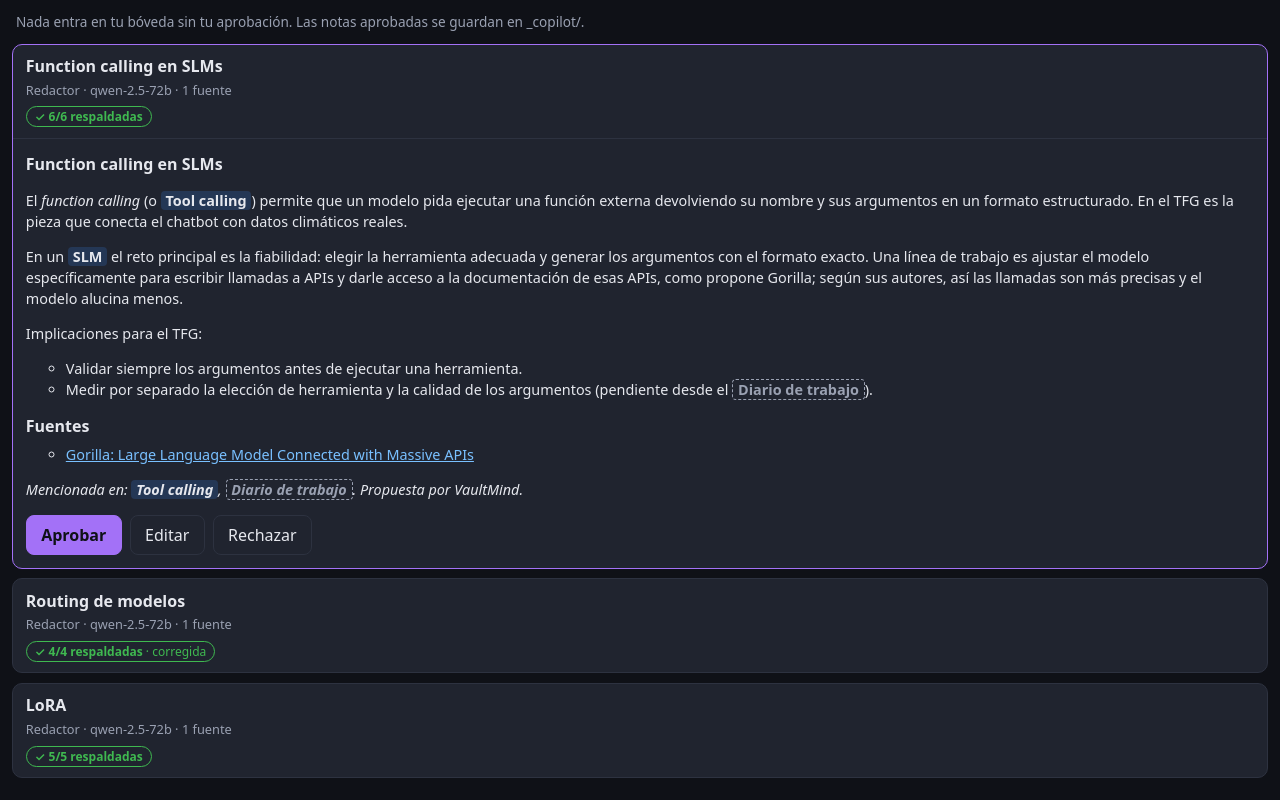
Test case: ReviewPanel › permite cerrar la nota abierta y abrir otra
Step 1. Click the button "Function calling en SLMs" → [124, 66], box [13,45,1267,138]
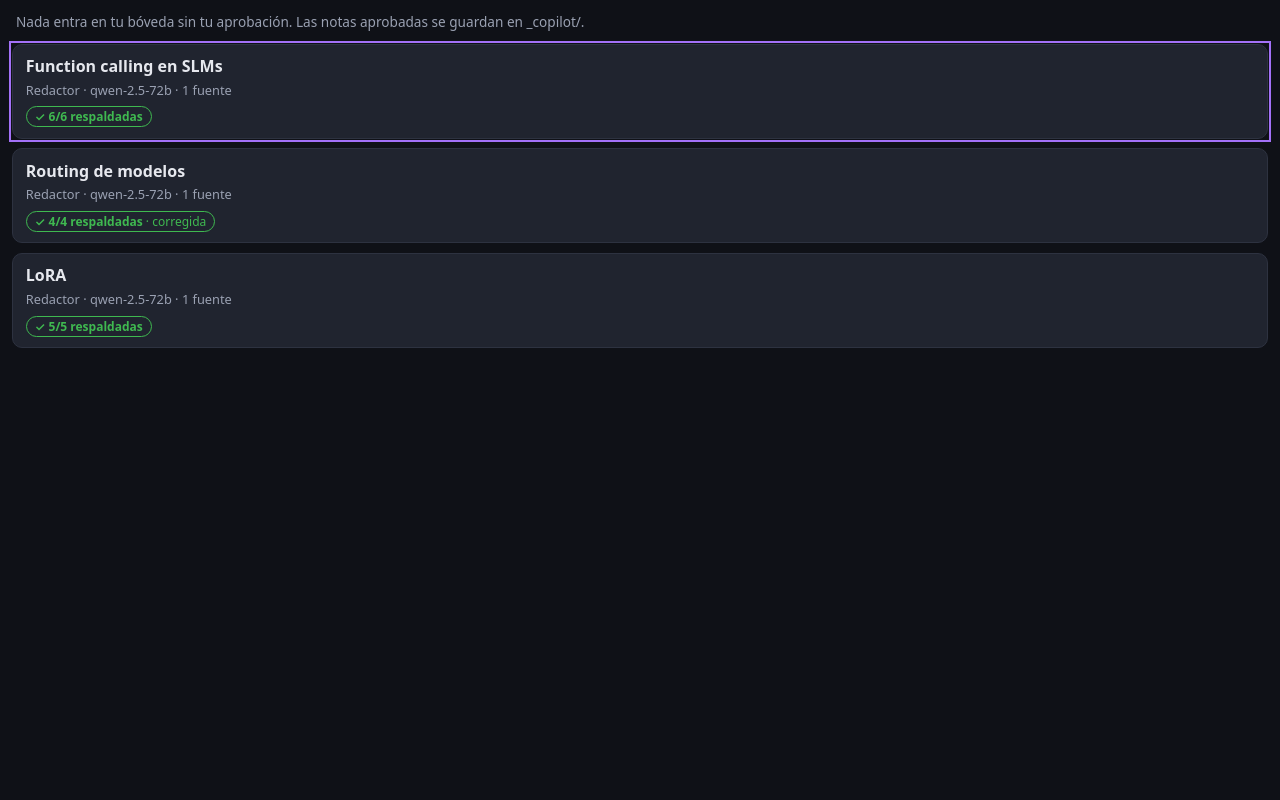
Step 2. Click the button "Routing de modelos" → [105, 171], box [13,149,1267,242]
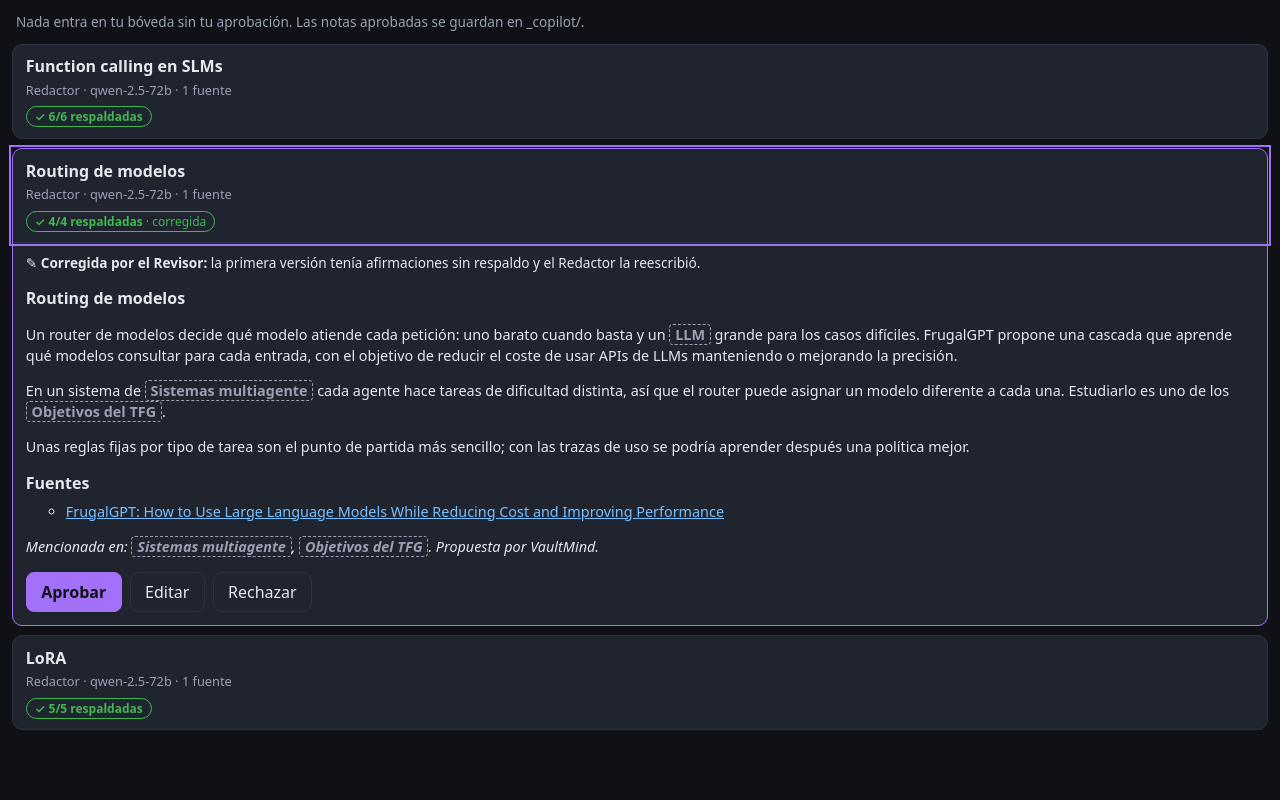
expect the heading "Routing de modelos" is shown: met, box [26,287,185,309]
